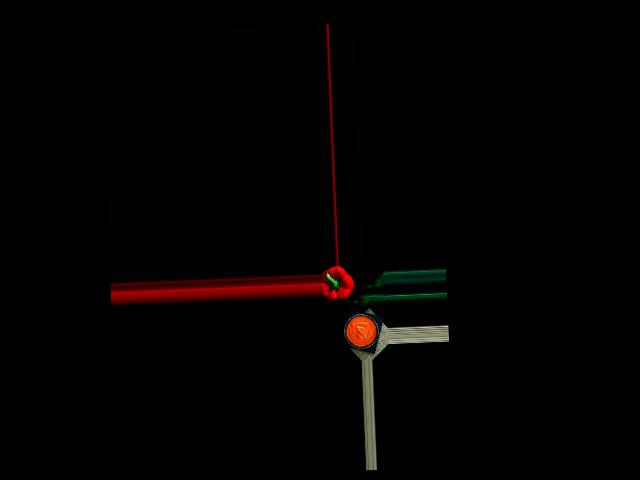bell_pepper: (321, 266, 353, 301)
